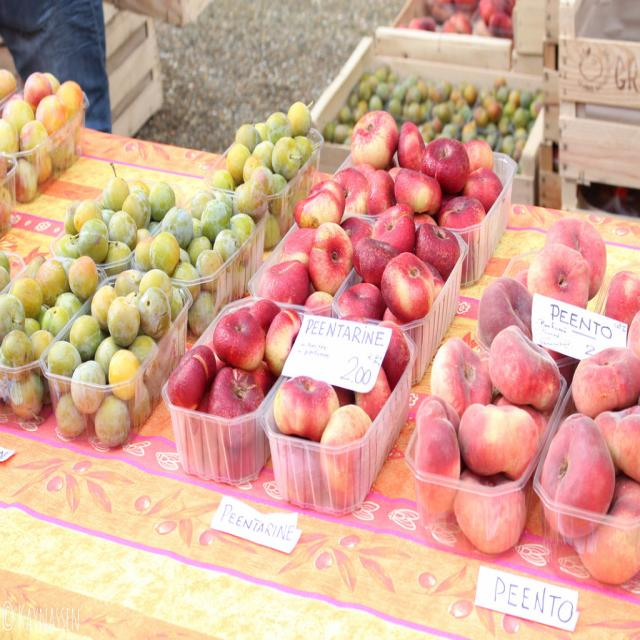Healty Apple: (256, 172, 458, 379), (407, 325, 562, 556), (538, 270, 640, 584), (332, 110, 502, 284), (270, 313, 410, 510), (475, 217, 609, 415), (45, 265, 186, 449), (167, 299, 303, 480), (132, 178, 269, 336), (0, 256, 99, 422), (210, 101, 318, 251), (54, 162, 174, 276), (0, 74, 84, 199), (396, 0, 516, 40), (212, 308, 266, 372), (0, 187, 12, 235), (0, 69, 17, 100), (0, 267, 11, 294), (0, 250, 11, 273), (0, 152, 6, 180)
